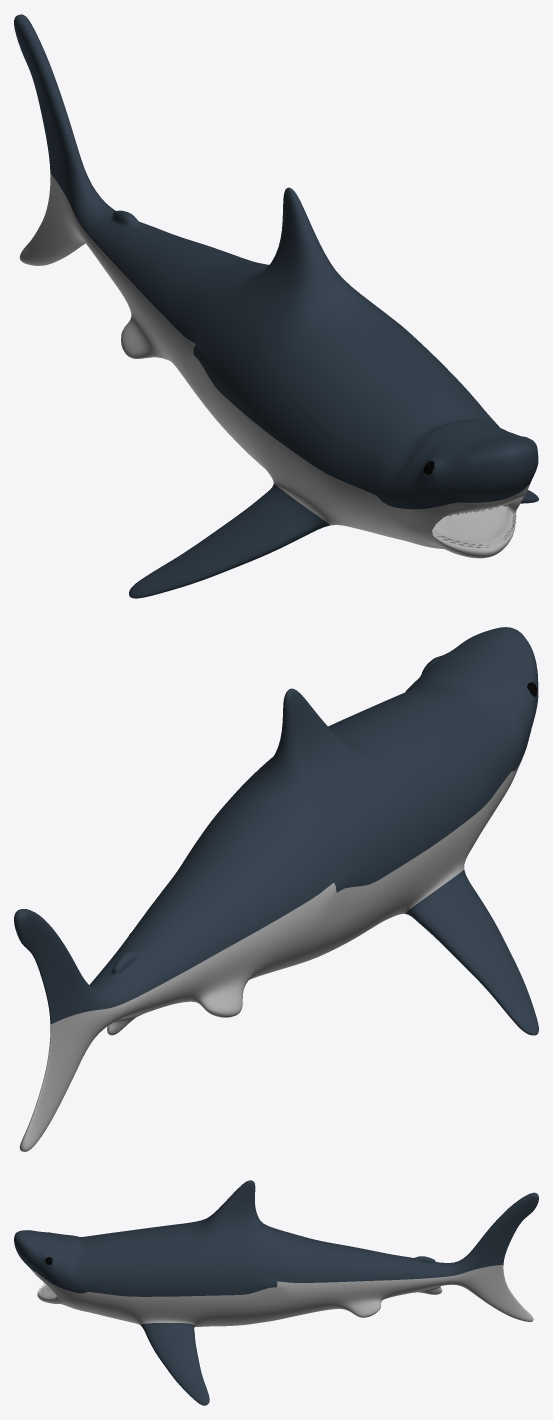
Rendered from Shark-1.fbx.
The picture shows the model from 3 angles, top to bottom: view 1: azimuth 30°, elevation 25°; view 2: azimuth 150°, elevation 25°; view 3: azimuth 270°, elevation 25°; orthographic projection. The views are drawn at different scales.
Parts seen in each view (by area): view 1: Shark1; view 2: Shark1; view 3: Shark1.
Boxes of the visible parts, bbox=[...] form: Shark1: bbox=[14, 14, 538, 598]; Shark1: bbox=[14, 627, 538, 1151]; Shark1: bbox=[14, 1180, 538, 1405].
Bounding box in the file's own units: 14.84 × 11.42 × 31.41.
